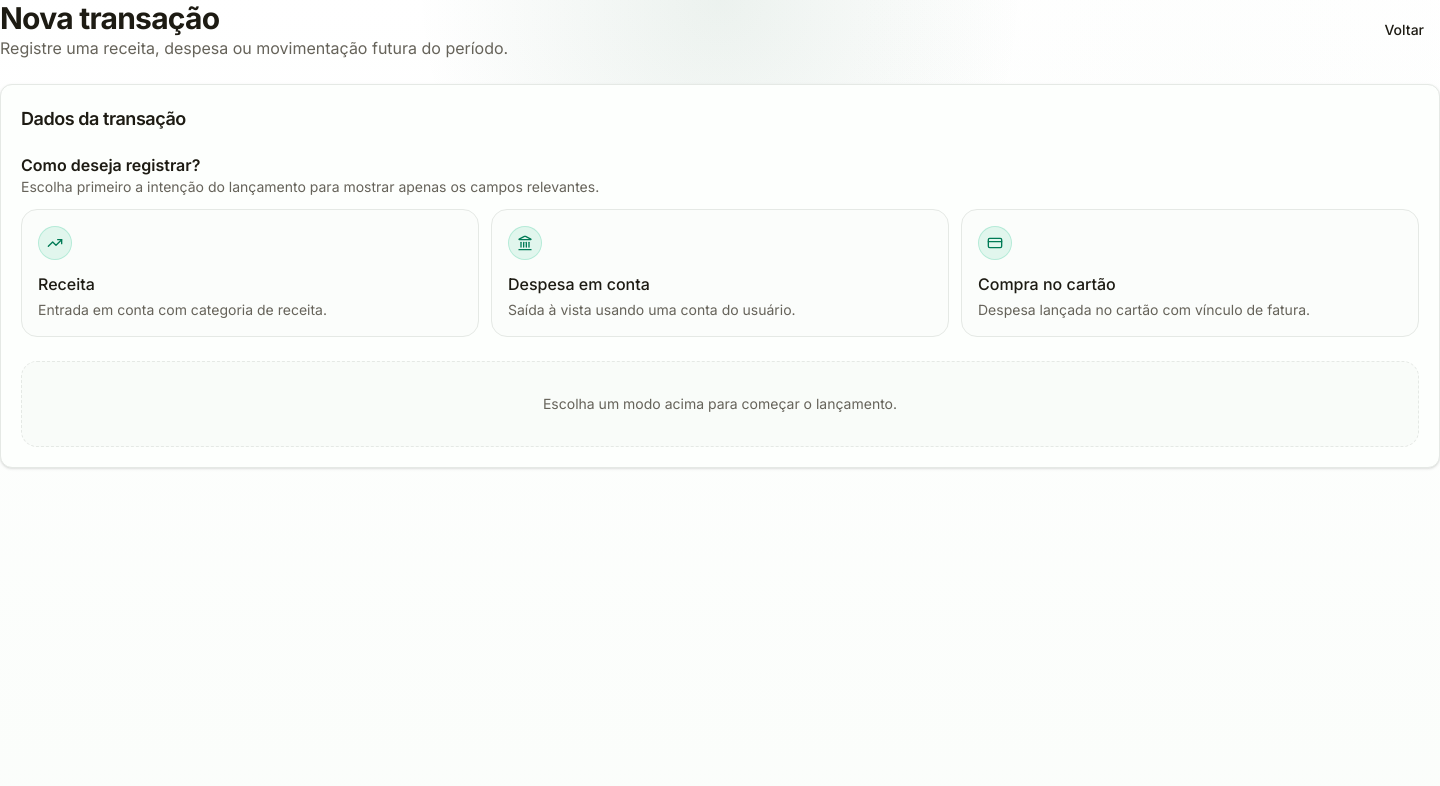
Scenario: transaction form › renders selection controls instead of raw ID inputs
The width and height of the screenshot is (1440, 786).
Expected: the heading "Nova transação" is shown, [0,0,219,36]
Expected: the heading "Como deseja registrar?" is shown, [21,155,200,175]
What coordinates should you click on to do the following:
click the button "Compra no cartão"
I would click on:
 (995, 243)
Its box is [961,209,1419,337].
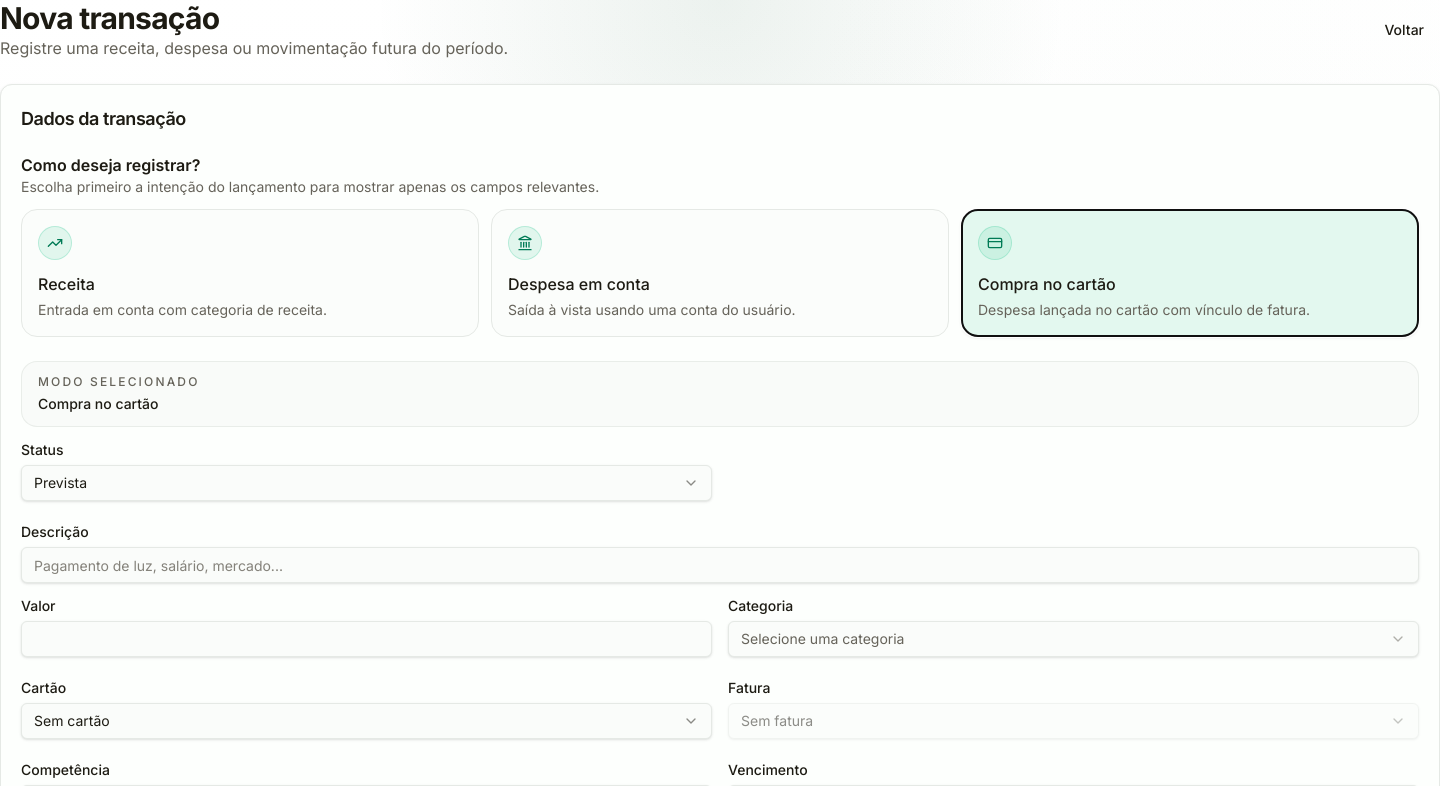
Expected: the dropdown labelled "categoria" is shown, [728,621,1419,657]
Expected: the dropdown labelled "cartão" is shown, [21,703,712,739]
Expected: the dropdown labelled "fatura" is shown, [728,703,1419,739]
